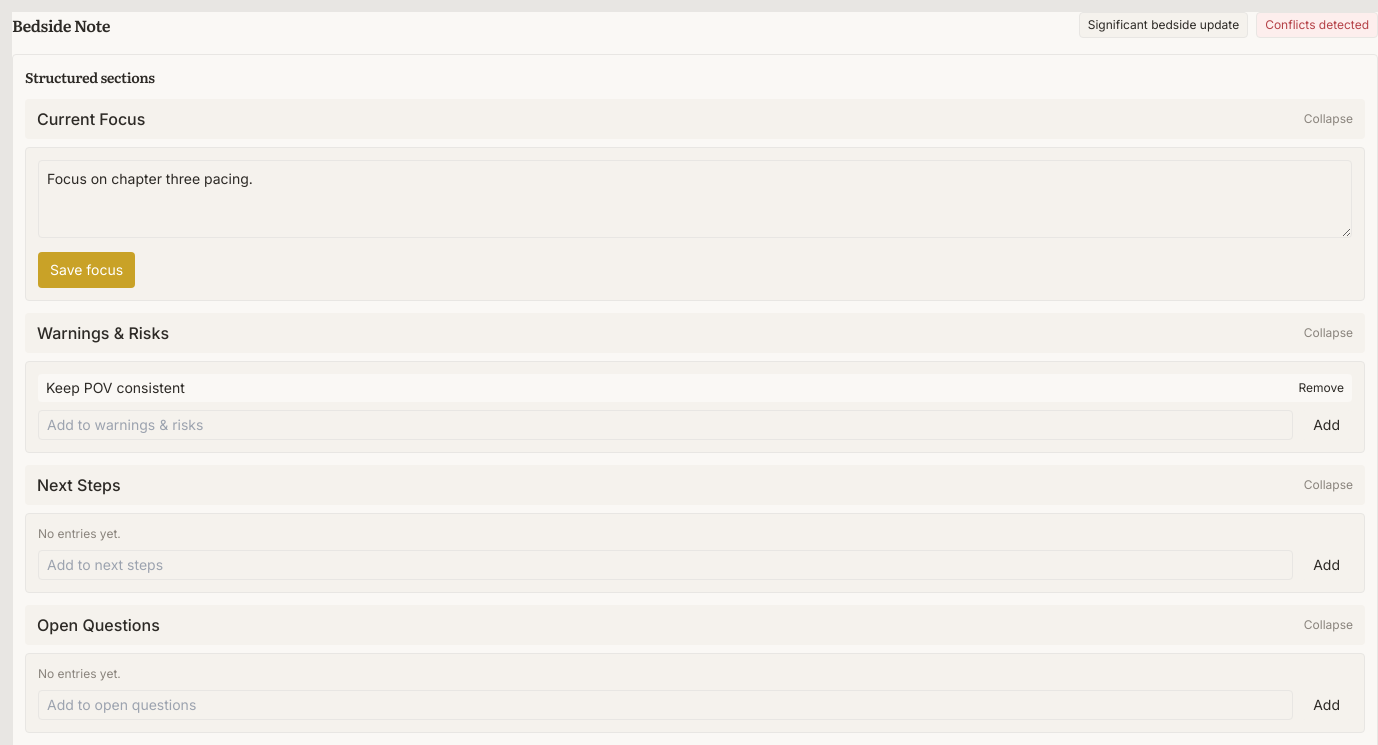
Test: BedsideNotePanel › shows error when removing an item fails
Step 1. Click the button "Remove" → (1321, 388), box [1298,380,1344,396]
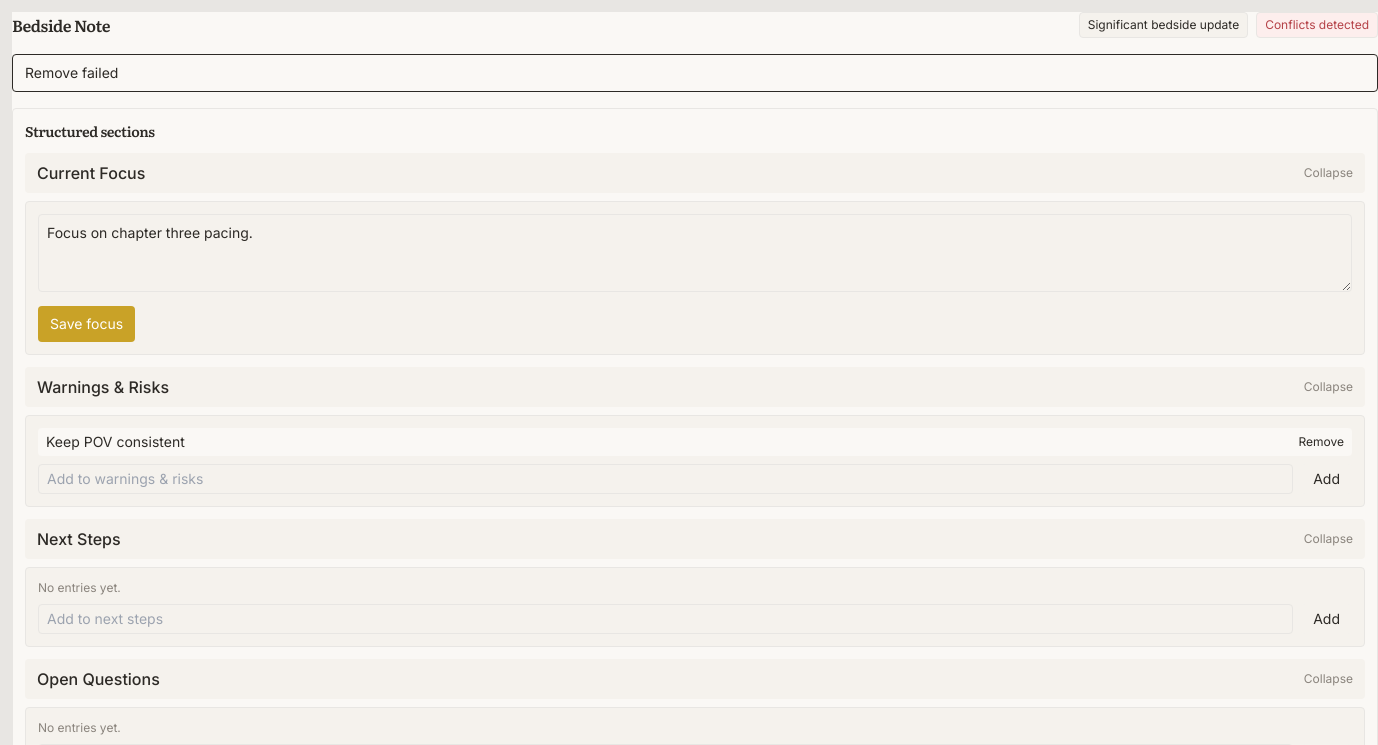
expect the text "Remove failed" is shown: met, box [12,54,1377,92]
